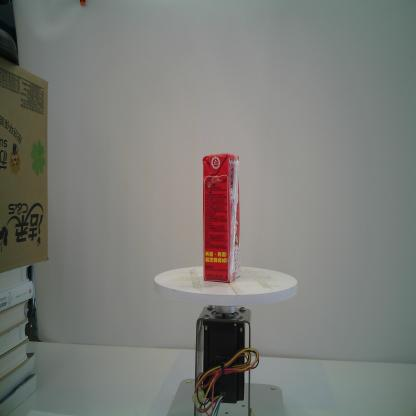Milk: (202, 153, 241, 283)
